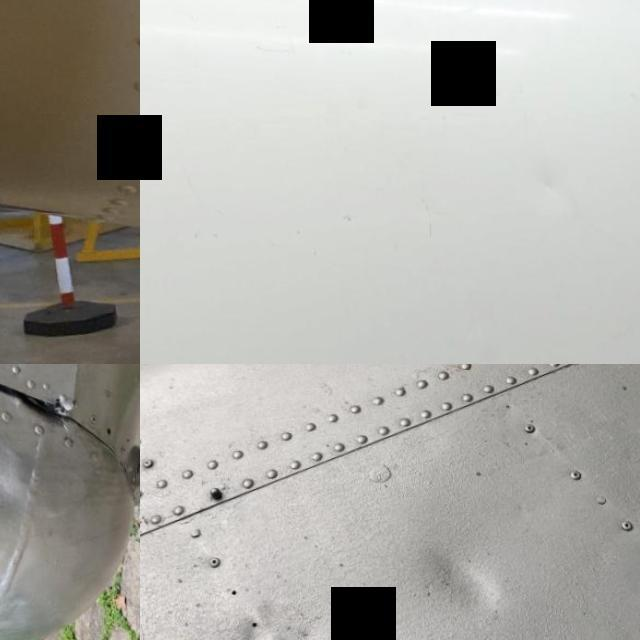Dent: (401, 499, 543, 640), (203, 579, 330, 640), (533, 162, 570, 207)
